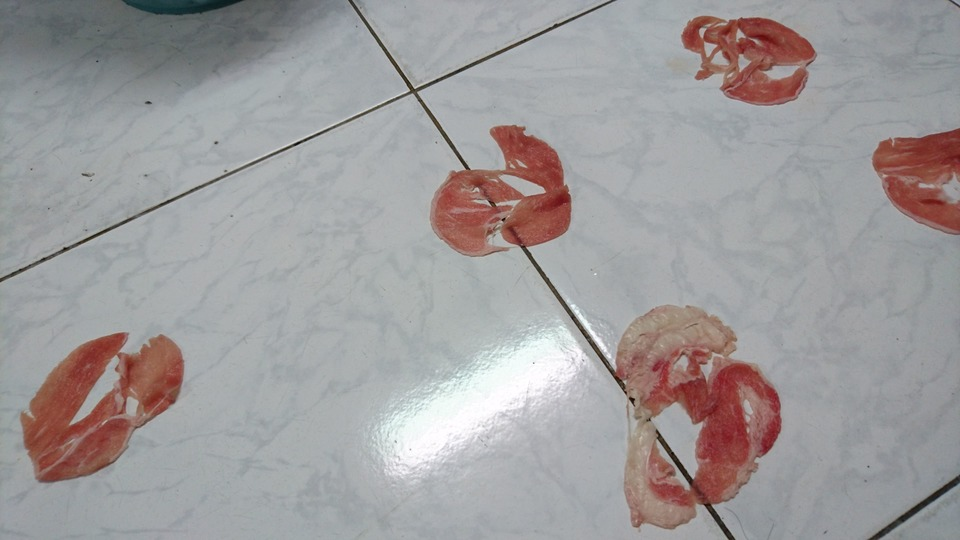restructured meat: (600, 307, 783, 540), (20, 314, 194, 491), (429, 112, 576, 261), (671, 11, 818, 108), (871, 116, 960, 239)
